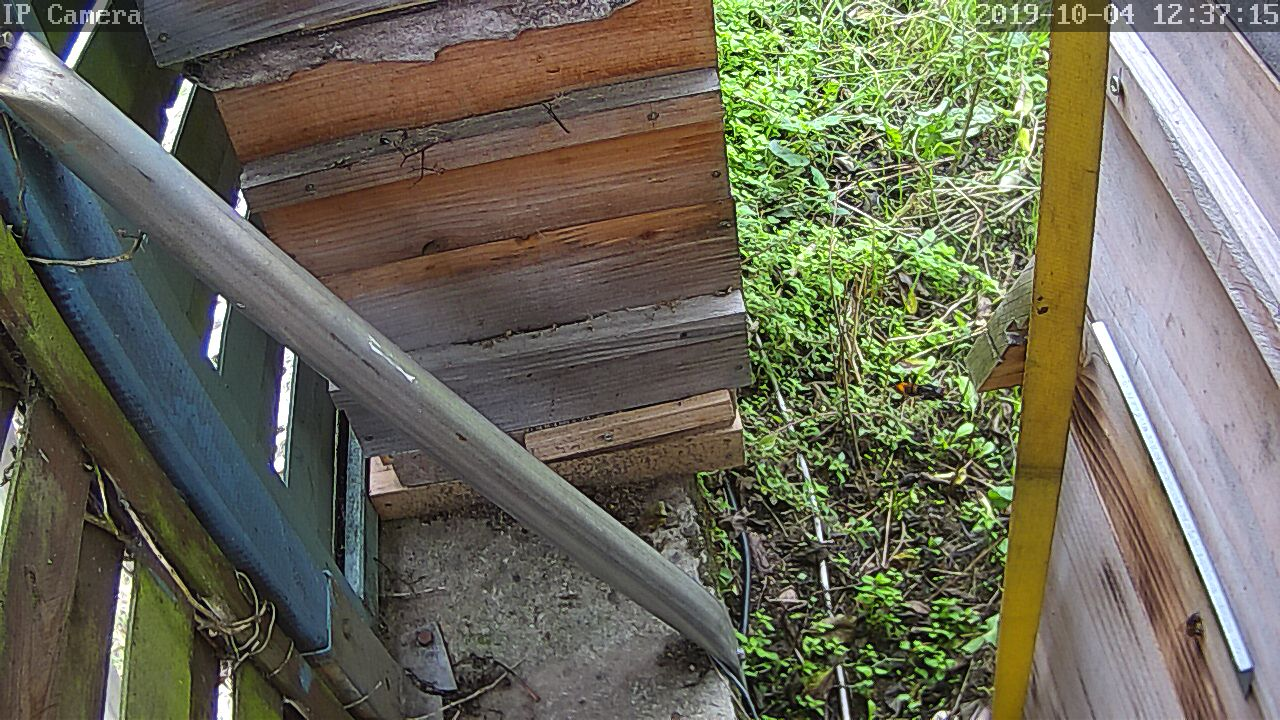bee: (1173, 607, 1216, 648)
hornet: (887, 377, 948, 412)
